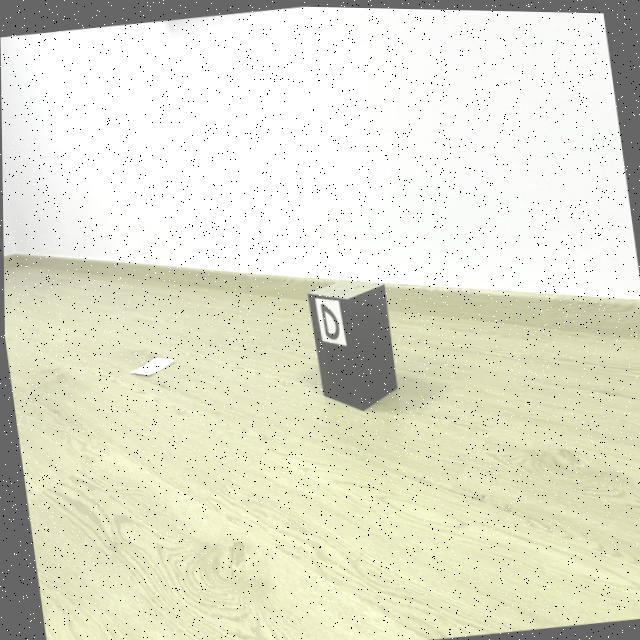D: (319, 301, 338, 338)
